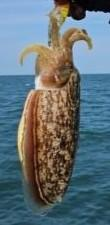Cephalopod: (18, 6, 92, 217)
